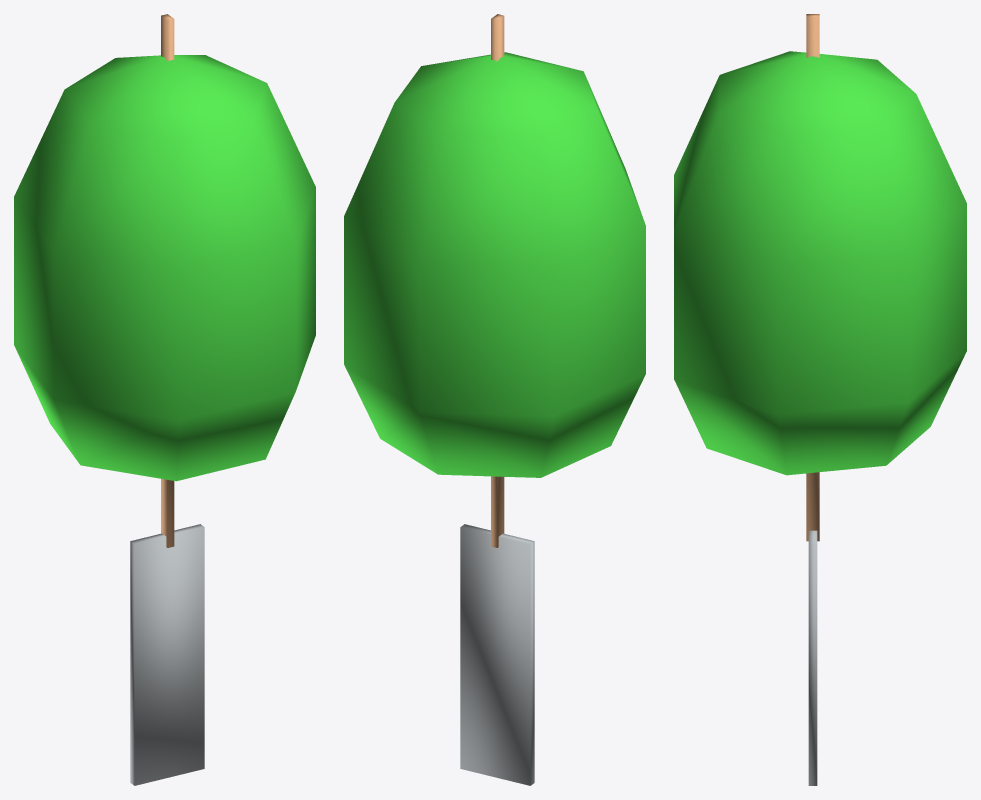
Rendered from Furin_2.fbx.
The picture shows the model from 3 angles, left to right: view 1: azimuth 30°, elevation 25°; view 2: azimuth 150°, elevation 25°; view 3: azimuth 270°, elevation 25°; orthographic projection.
Visible parts, largest first — view 1: Furin_2; view 2: Furin_2; view 3: Furin_2.
Boxes of the visible parts, x1,y1,x2,y2 form: Furin_2: (14,14,315,785); Furin_2: (344,14,645,785); Furin_2: (674,14,966,785).
Bounding box in the file's own units: 0.212 × 0.2174 × 0.6016.
